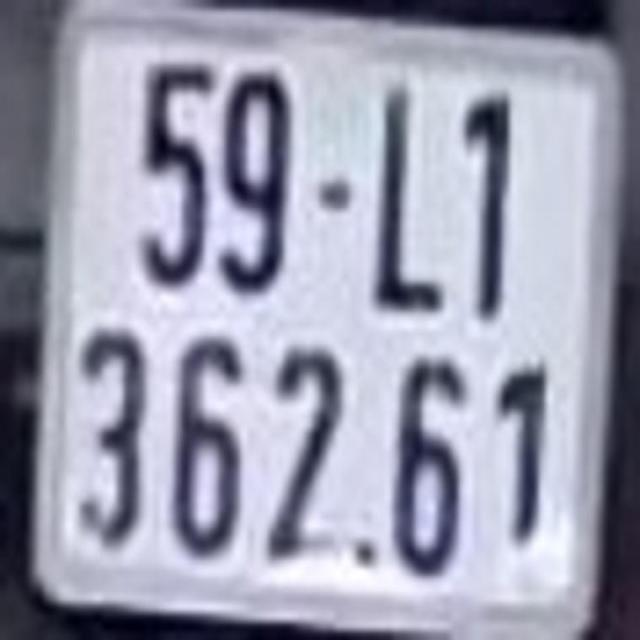1: (498, 360, 552, 584), (464, 88, 513, 324)
2: (273, 344, 343, 564)
3: (72, 326, 140, 542)
5: (140, 57, 210, 297)
6: (396, 356, 471, 582), (176, 332, 243, 548)
9: (220, 71, 288, 294)
L: (380, 83, 444, 312)
